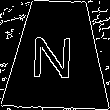N_N: (34, 29, 80, 80)
